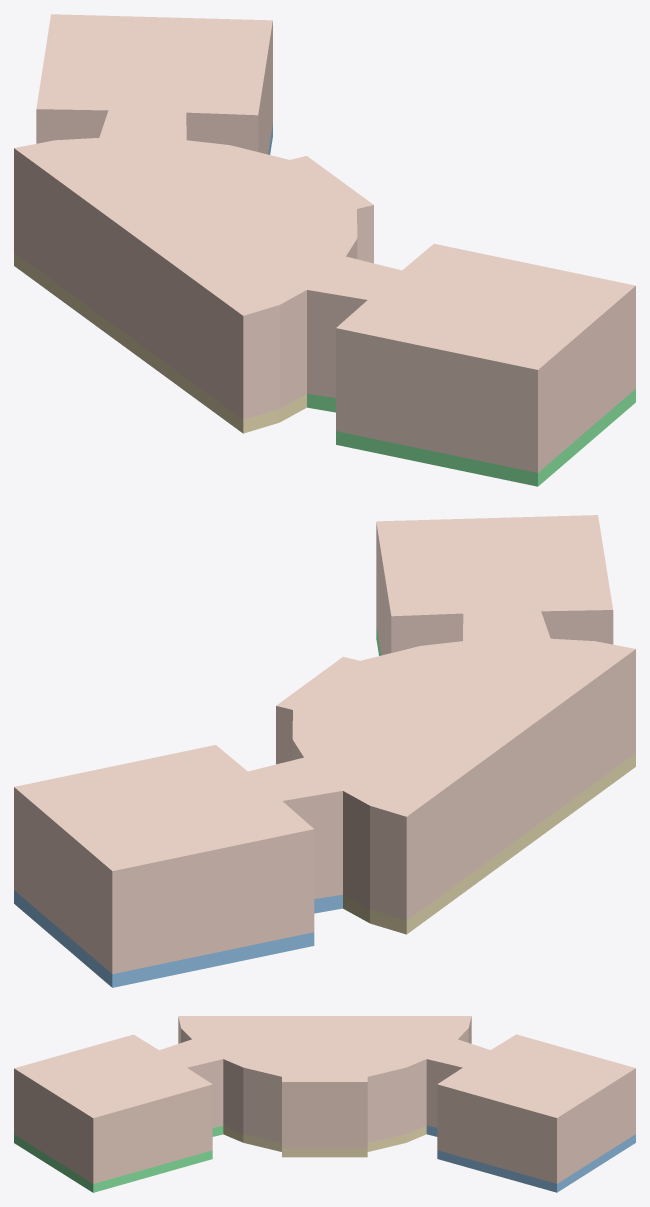
File: finalRooms.gltf
The picture shows the model from 3 angles, top to bottom: view 1: azimuth 30°, elevation 25°; view 2: azimuth 150°, elevation 25°; view 3: azimuth 270°, elevation 25°; orthographic projection. The views are drawn at different scales.
Visible parts, largest first — view 1: Cylinder.001; view 2: Cylinder.001; view 3: Cylinder.001.
Boxes of the visible parts, <box> form: Cylinder.001: <box>14,14,635,486</box>; Cylinder.001: <box>14,515,635,987</box>; Cylinder.001: <box>14,1016,635,1192</box>.
Bounding box in the file's own units: 9.86 × 3.41 × 25.45.
